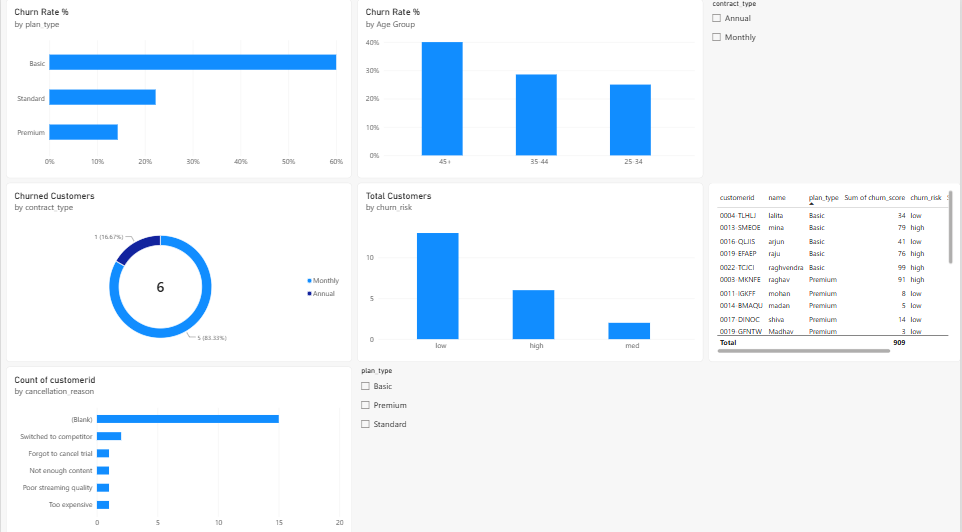

This screenshot's page, from the dashboard's own definition file:
{"tool":"powerbi","page":{"name":"Page 1","canvas":[1920,1080],"ordinal":0},"visuals":[{"type":"clusteredBarChart","fields":{"Category":["Merged.plan_type"],"Y":["Merged.Churn Rate %"]},"box":[10.3,0,691.6,358.1],"z":0},{"type":"donutChart","fields":{"Category":["Merged.contract_type"],"Y":["Merged.Churned Customers"]},"box":[10,368,692,358],"z":1},{"type":"clusteredBarChart","fields":{"Category":["Merged.cancellation_reason"],"Y":["Count(Merged.customerid)"]},"box":[10,736,692,344],"z":2},{"type":"clusteredColumnChart","fields":{"Category":["Merged.Age Group"],"Y":["Merged.Churn Rate %"]},"box":[712,0,692,358],"z":3},{"type":"clusteredColumnChart","fields":{"Category":["Merged.churn_risk"],"Y":["Merged.Total Customers"]},"box":[712,368,692,358],"z":4},{"type":"slicer","fields":{"Values":["Merged.plan_type"]},"box":[712,736,692,344],"z":5},{"type":"slicer","fields":{"Values":["Merged.contract_type"]},"box":[1414,0,506,358],"z":6},{"type":"tableEx","fields":{"Values":["Merged.customerid","Merged.name","Merged.plan_type","Sum(Merged.churn_score)","Merged.churn_risk","Sum(Merged.monthly_charges)"]},"box":[1414,368,506,358],"z":7}]}

Visuals, with their boxes in screenshot pixels (x1, y1, x2, y2), scaled from the page's 1920x1080 canvas onto the 962x532 screenshot:
clusteredBarChart - Merged.plan_type x Merged.Churn Rate %: left=5, top=0, right=352, bottom=176
donutChart - Merged.contract_type x Merged.Churned Customers: left=5, top=181, right=352, bottom=358
clusteredBarChart - Merged.cancellation_reason x Count(Merged.customerid): left=5, top=363, right=352, bottom=531
clusteredColumnChart - Merged.Age Group x Merged.Churn Rate %: left=357, top=0, right=703, bottom=176
clusteredColumnChart - Merged.churn_risk x Merged.Total Customers: left=357, top=181, right=703, bottom=358
slicer - Merged.plan_type: left=357, top=363, right=703, bottom=531
slicer - Merged.contract_type: left=708, top=0, right=961, bottom=176
tableEx - Merged.customerid x Merged.name: left=708, top=181, right=961, bottom=358
